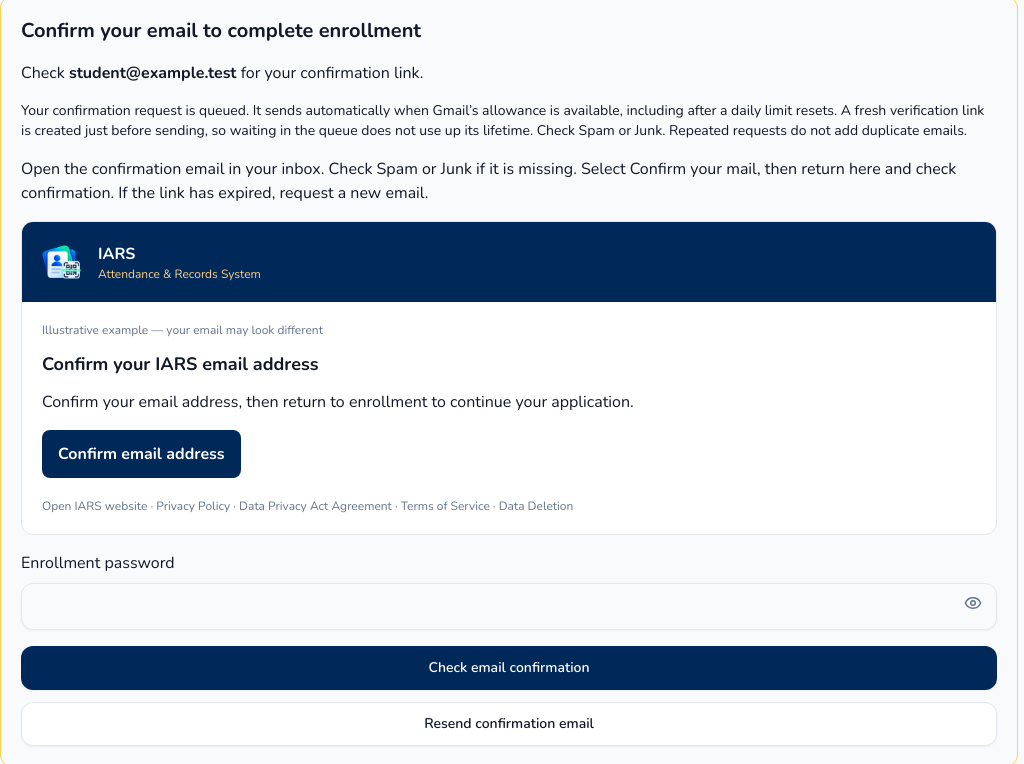
requests resend without marking the email confirmed
The image size is (1024, 764).
Click the button "Resend confirmation email".
click(509, 724)  # box [21,702,997,746]
(page scrolled)
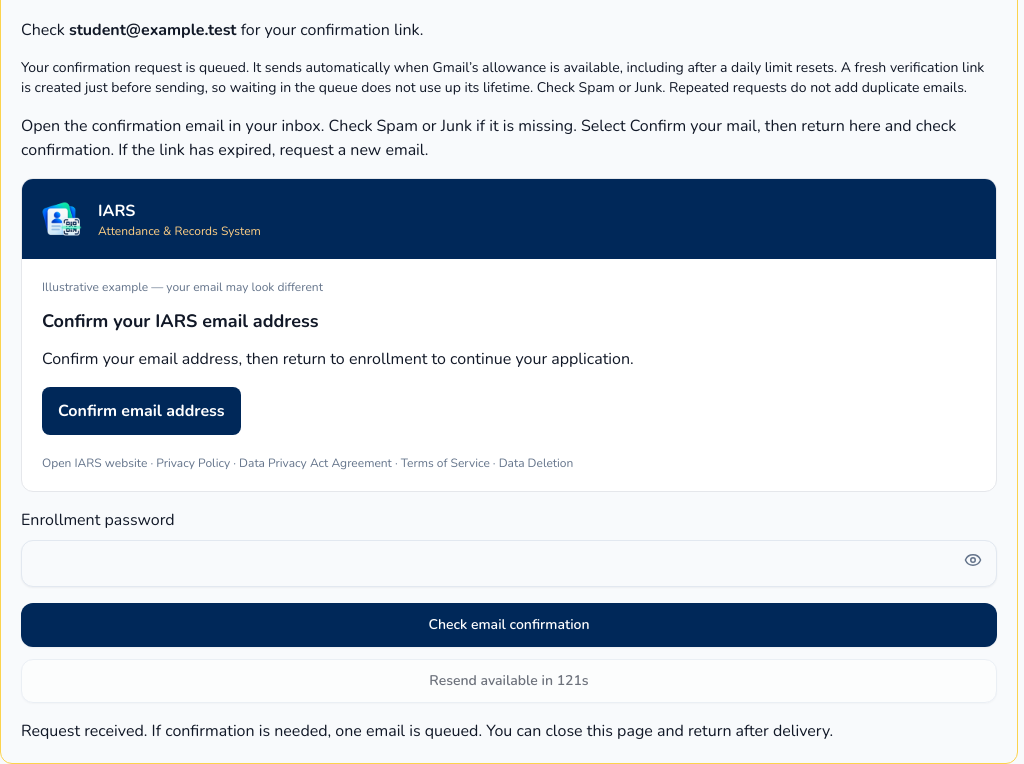
Expected: the text "Request received. If confirmation is needed, one email is queued. You can close this page and return after delivery." is shown, [21,720,833,742]
